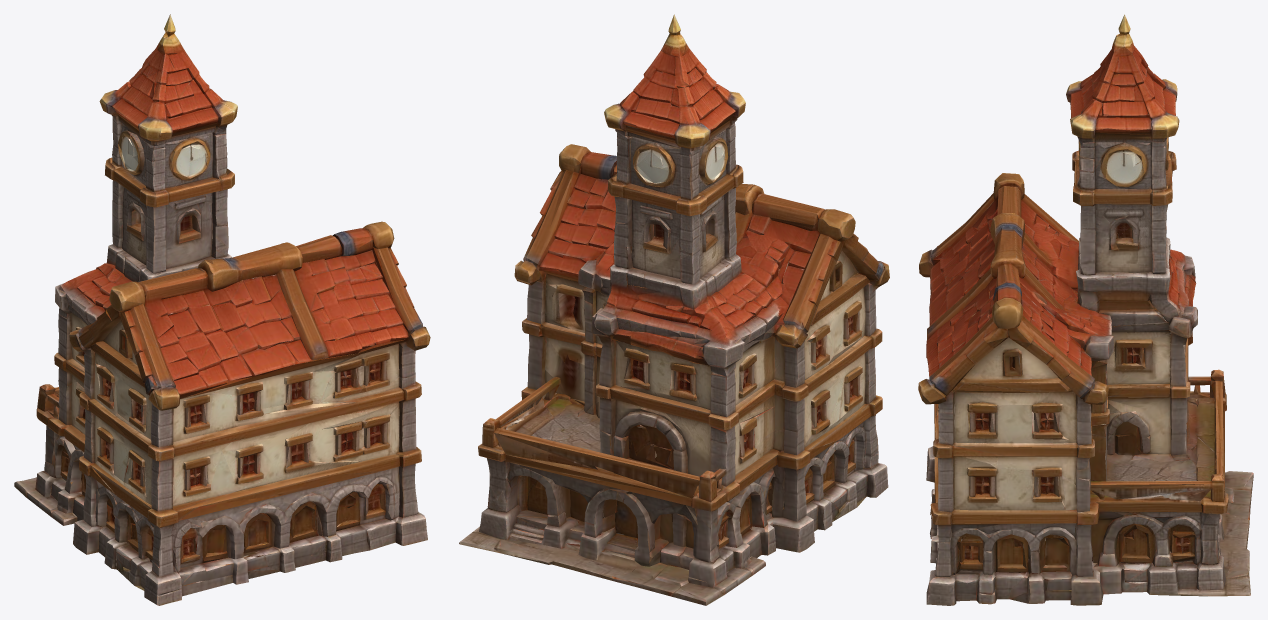
File: village3.glb
The picture shows the model from 3 angles, left to right: view 1: azimuth 30°, elevation 25°; view 2: azimuth 150°, elevation 25°; view 3: azimuth 270°, elevation 25°; orthographic projection. The views are drawn at different scales.
Parts seen in each view (by area): view 1: Mesh_0; view 2: Mesh_0; view 3: Mesh_0.
Part boxes in pixels (<box>): Mesh_0: <box>14,14,430,605</box>; Mesh_0: <box>459,14,889,605</box>; Mesh_0: <box>918,14,1253,605</box>.
Size of the model in its own units: 1.11 by 1.9 by 1.13.
1 material, 1 textured.
